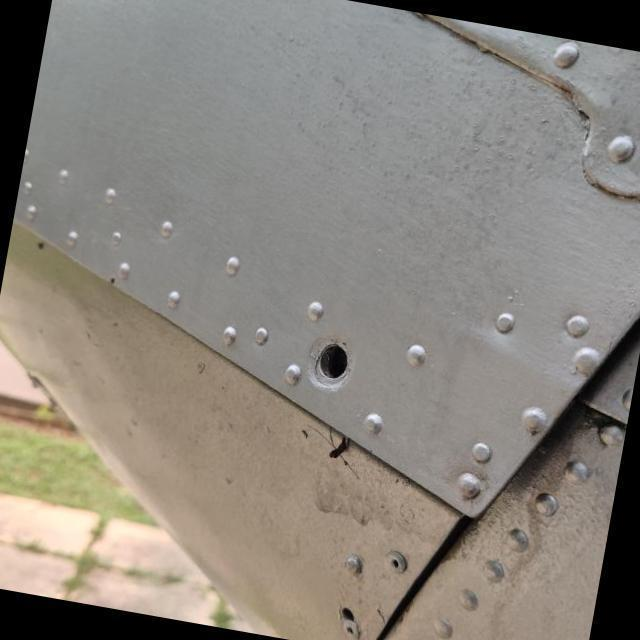Missing Fastener: (305, 338, 351, 392)
